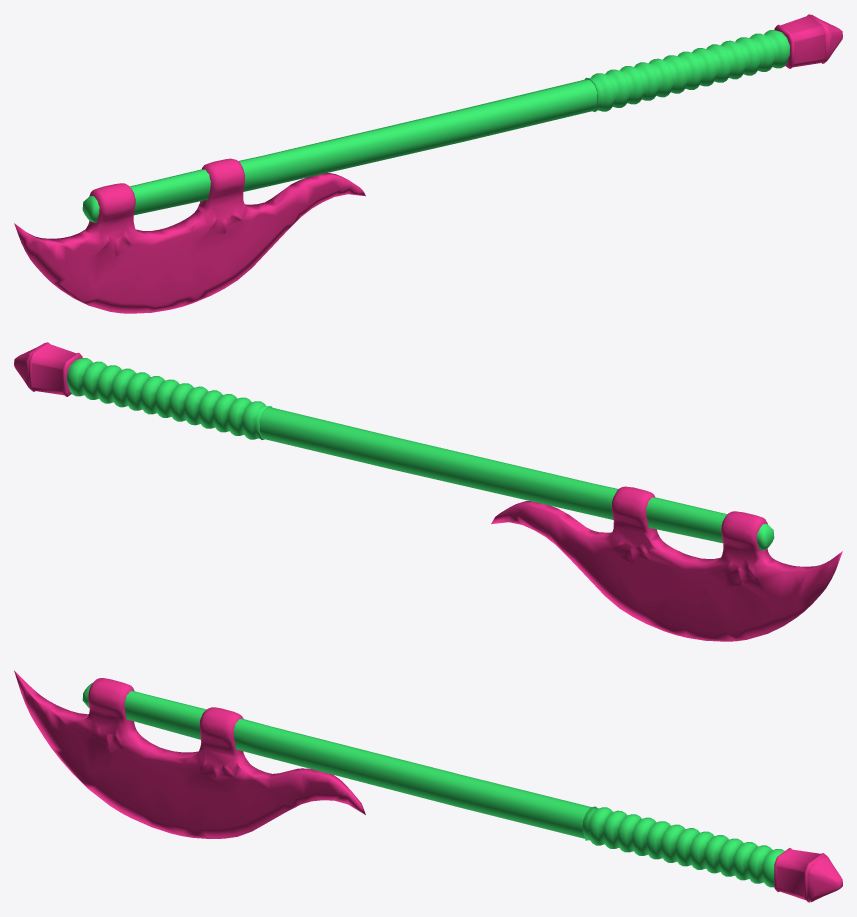
Rendered from saracen_battleaxe_short.fbx.
3 views of the same model, one above another, from view 1: azimuth 30°, elevation 25°; view 2: azimuth 150°, elevation 25°; view 3: azimuth 330°, elevation 25° (orthographic).
Parts seen in each view (by area): view 1: saracen_battleaxe_short; view 2: saracen_battleaxe_short; view 3: saracen_battleaxe_short.
Boxes of the visible parts, x1=… form: saracen_battleaxe_short: x1=14, y1=14, x2=842, y2=313; saracen_battleaxe_short: x1=14, y1=342, x2=842, y2=641; saracen_battleaxe_short: x1=14, y1=670, x2=842, y2=902.
Size of the model in its own units: 81.13 by 12.87 by 3.62.
